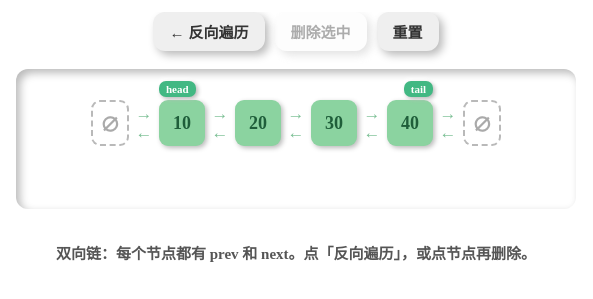
DlinkViz 双向链表互动 › TC-VIZ-DLINKVIZ-08 重置回 4 dnode
Click the button "20". click: (258,123)
box: [235, 100, 281, 146]
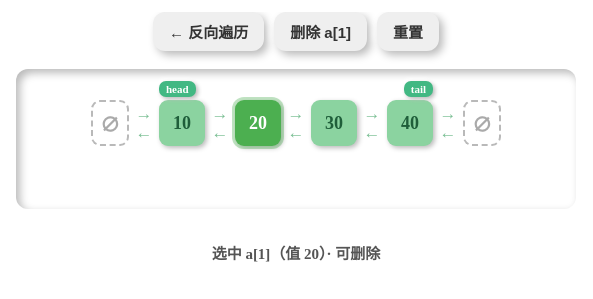
Click the button "删除 a[1]". click: (321,32)
box: [274, 12, 367, 51]
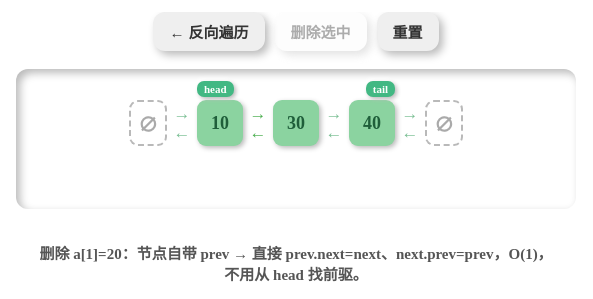
Click the button "重置". click: (408,32)
box: [377, 12, 439, 51]
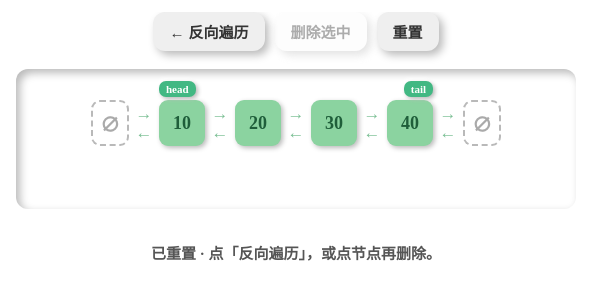
Now the number of elements with class "dnode" is 4, box [159, 100, 235, 146]; [235, 100, 311, 146]; [311, 100, 387, 146]; [387, 100, 463, 146]
